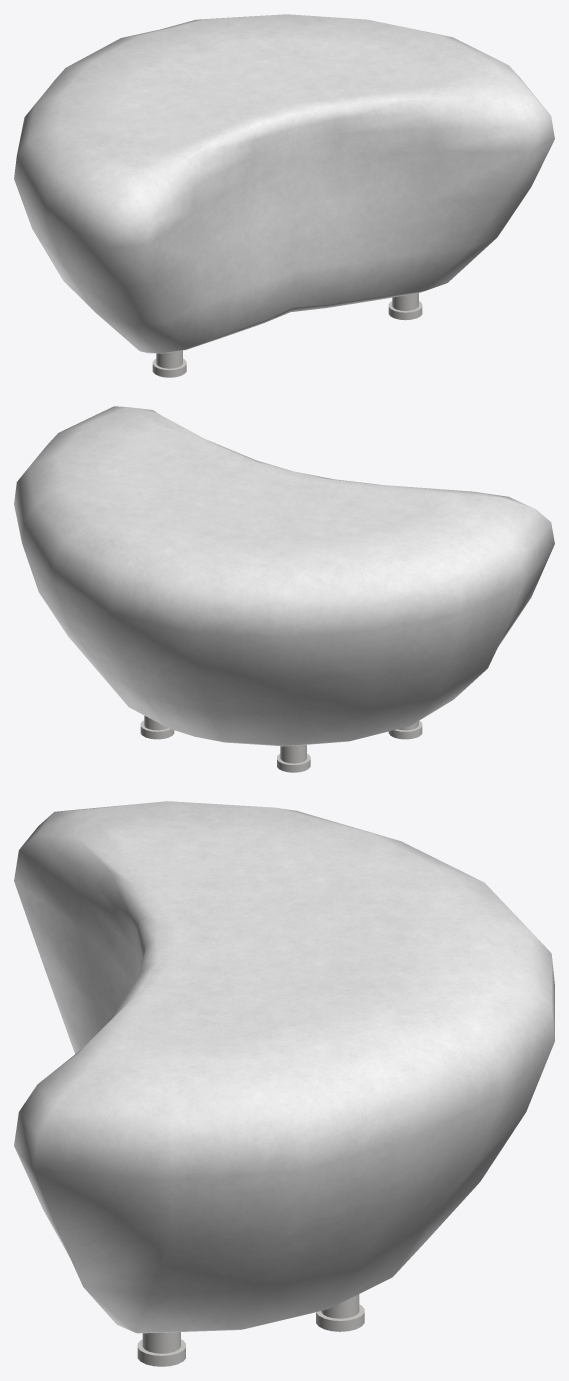
File: Ottoman02.FBX
The picture shows the model from 3 angles, top to bottom: view 1: azimuth 30°, elevation 25°; view 2: azimuth 150°, elevation 25°; view 3: azimuth 270°, elevation 25°; orthographic projection. The views are drawn at different scales.
Visible parts, largest first — view 1: Ottoman02; view 2: Ottoman02; view 3: Ottoman02.
Boxes of the visible parts, box(x1,y1,x2,y2) form: Ottoman02: box(14, 14, 554, 377); Ottoman02: box(14, 406, 554, 772); Ottoman02: box(14, 801, 554, 1366).
Bounding box in the file's own units: 124 × 57.24 × 84.3.
